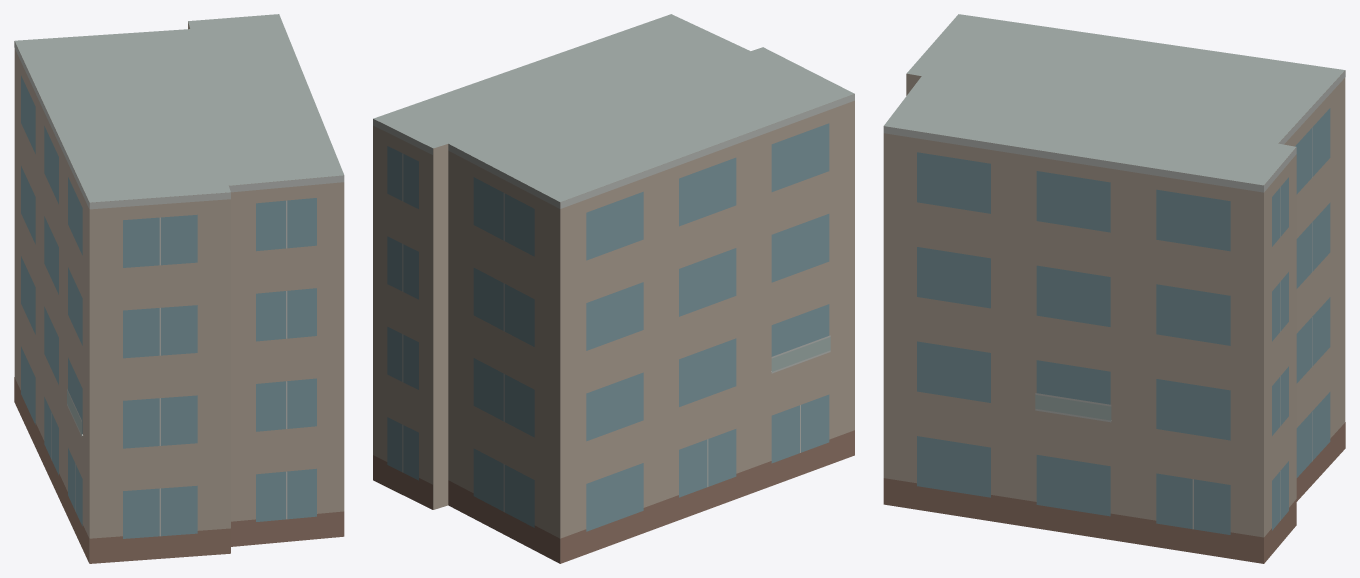
File: survey-upis-33018230.glb
3 renders of one model, left to right at view 1: azimuth 30°, elevation 25°; view 2: azimuth 150°, elevation 25°; view 3: azimuth 270°, elevation 25°, orthographic. The views are drawn at different scales.
Visible parts, largest first — view 1: survey-upis-33018230.tmp; view 2: survey-upis-33018230.tmp; view 3: survey-upis-33018230.tmp.
Boxes of the visible parts, x1,y1,x2,y2 form: survey-upis-33018230.tmp: (14,14,344,563); survey-upis-33018230.tmp: (373,14,854,563); survey-upis-33018230.tmp: (883,14,1345,563).
Size of the model in its own units: 12.54 by 12.9 by 14.28.
